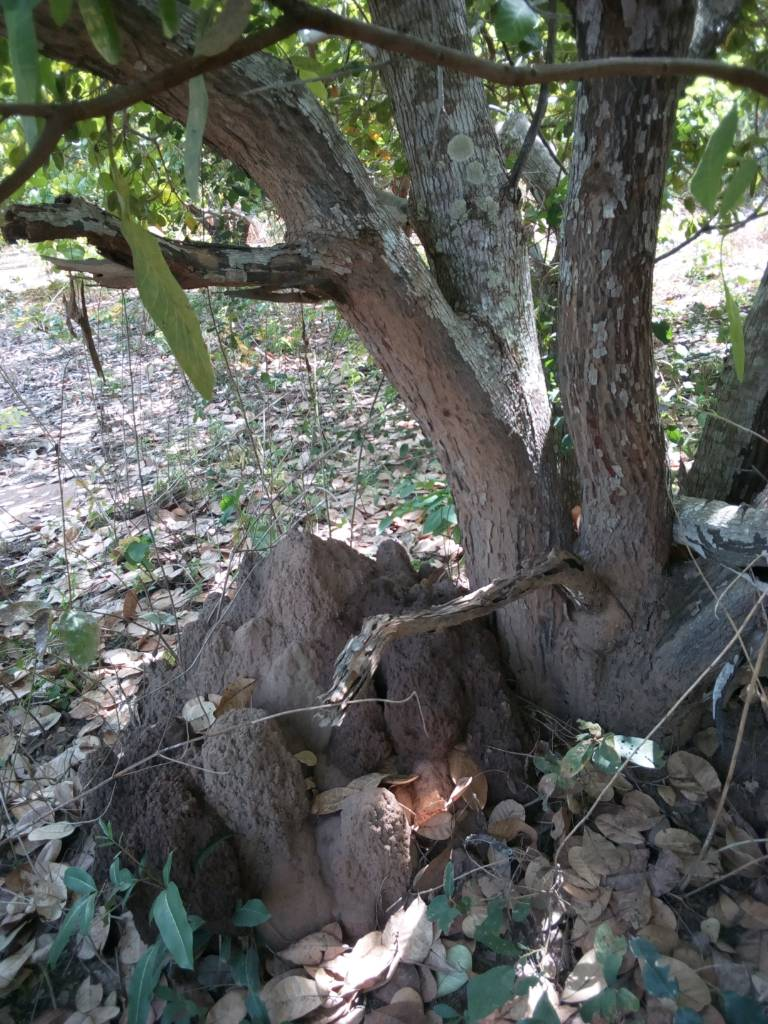Termites: (243, 536, 510, 861), (5, 191, 341, 289), (582, 405, 677, 710), (97, 713, 246, 903), (385, 314, 525, 507)
